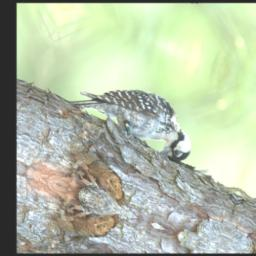Woodpecker: (65, 61, 202, 167)
